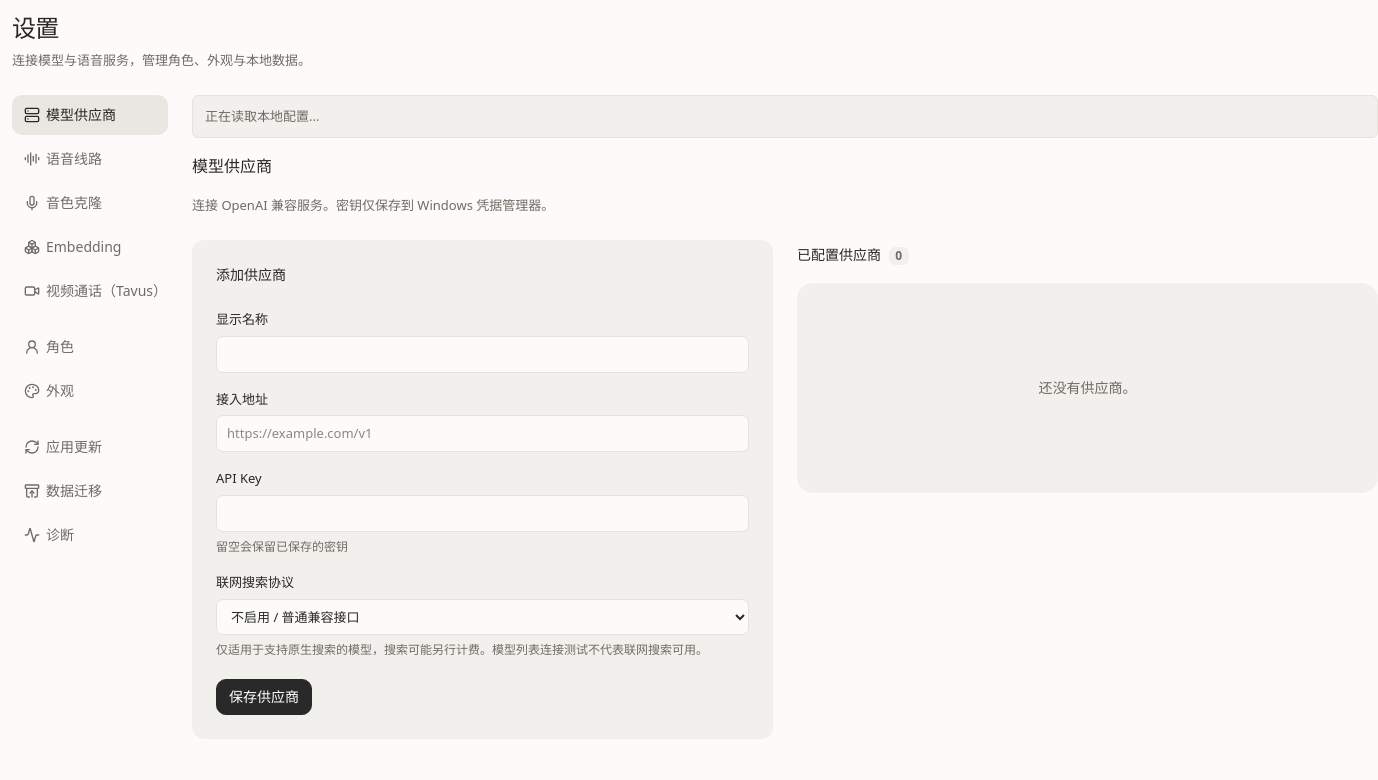
Test: SettingsPage service categories › records in-app audio and saves it as a voice reference
This screenshot has width=1378, height=780.
Step 1. Click the button "音色克隆" → (90, 203), box [12,183,168,223]
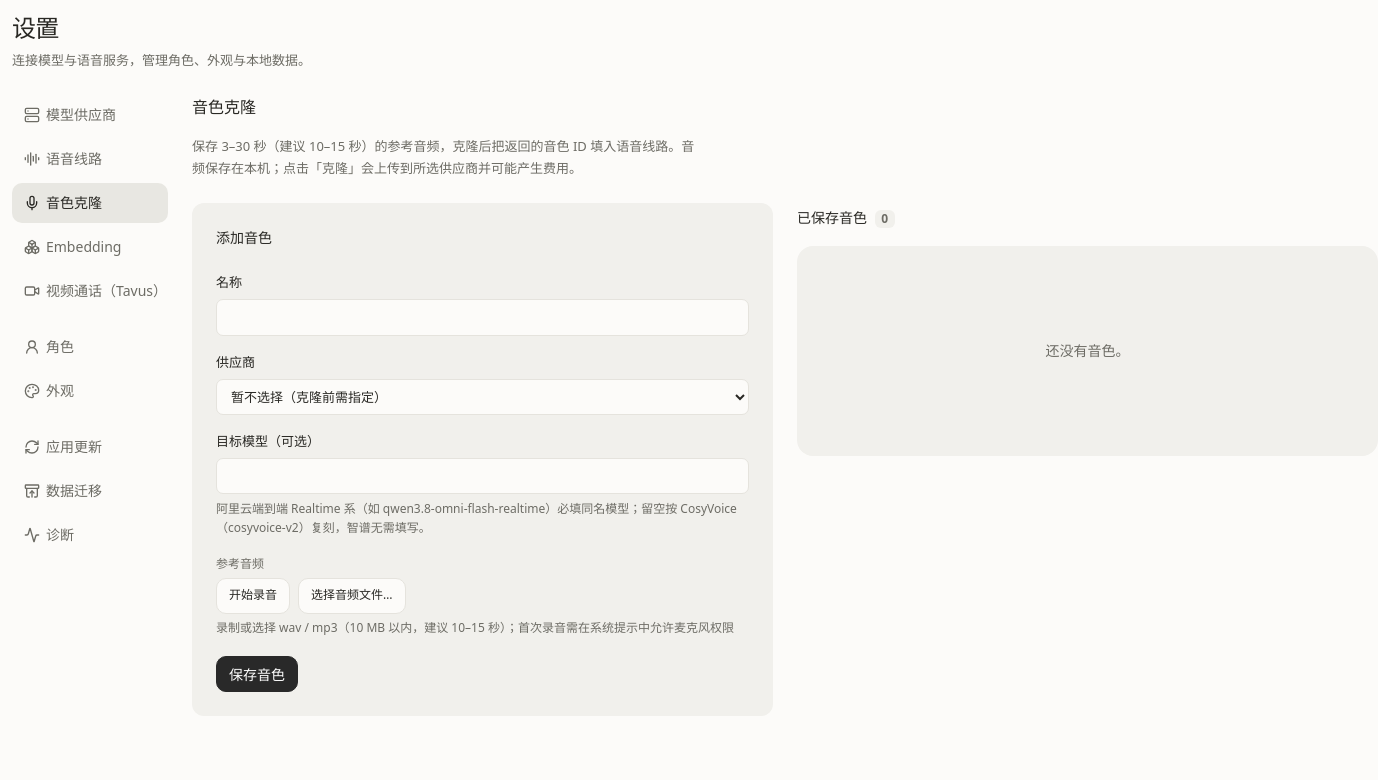
Step 2. Click the button "开始录音" → (253, 596), box [216,578,290,614]
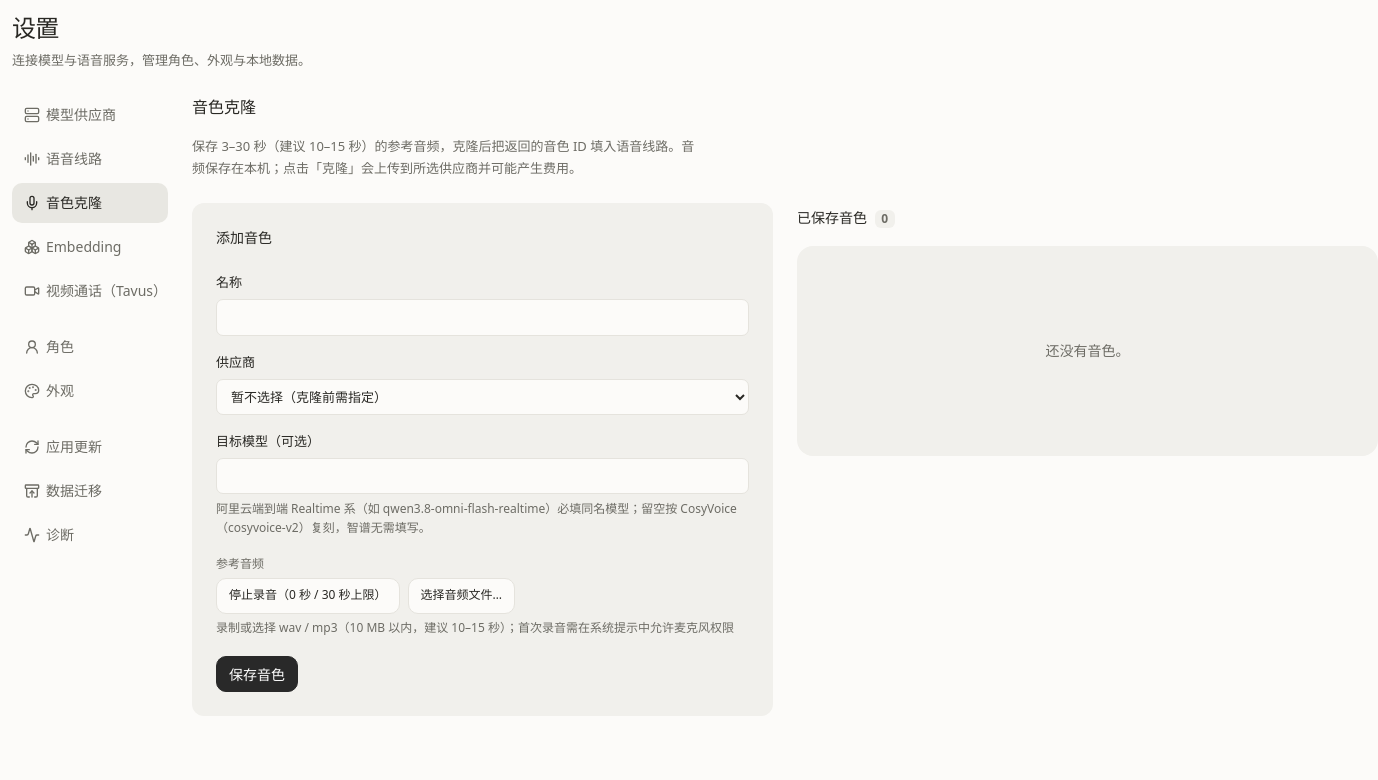
Step 3. Click the button "停止录音（0 秒 / 30 秒上限）" → (308, 596), box [216,578,400,614]
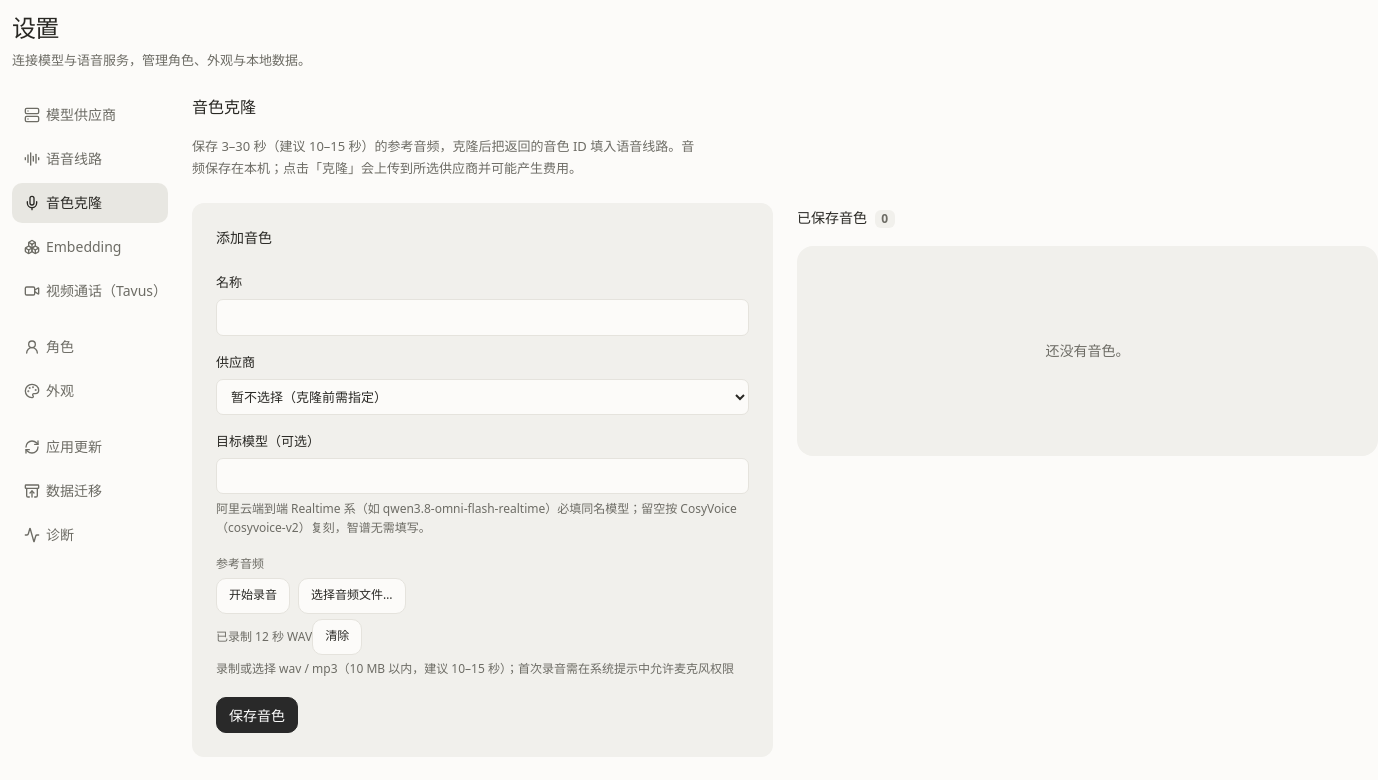
Expected: the text "已录制 12 秒 WAV 清除" is shown, [216,619,362,655]
Step 4. Type "录音音色" into the field labelled "名称" → (482, 318), box [216,299,749,336]
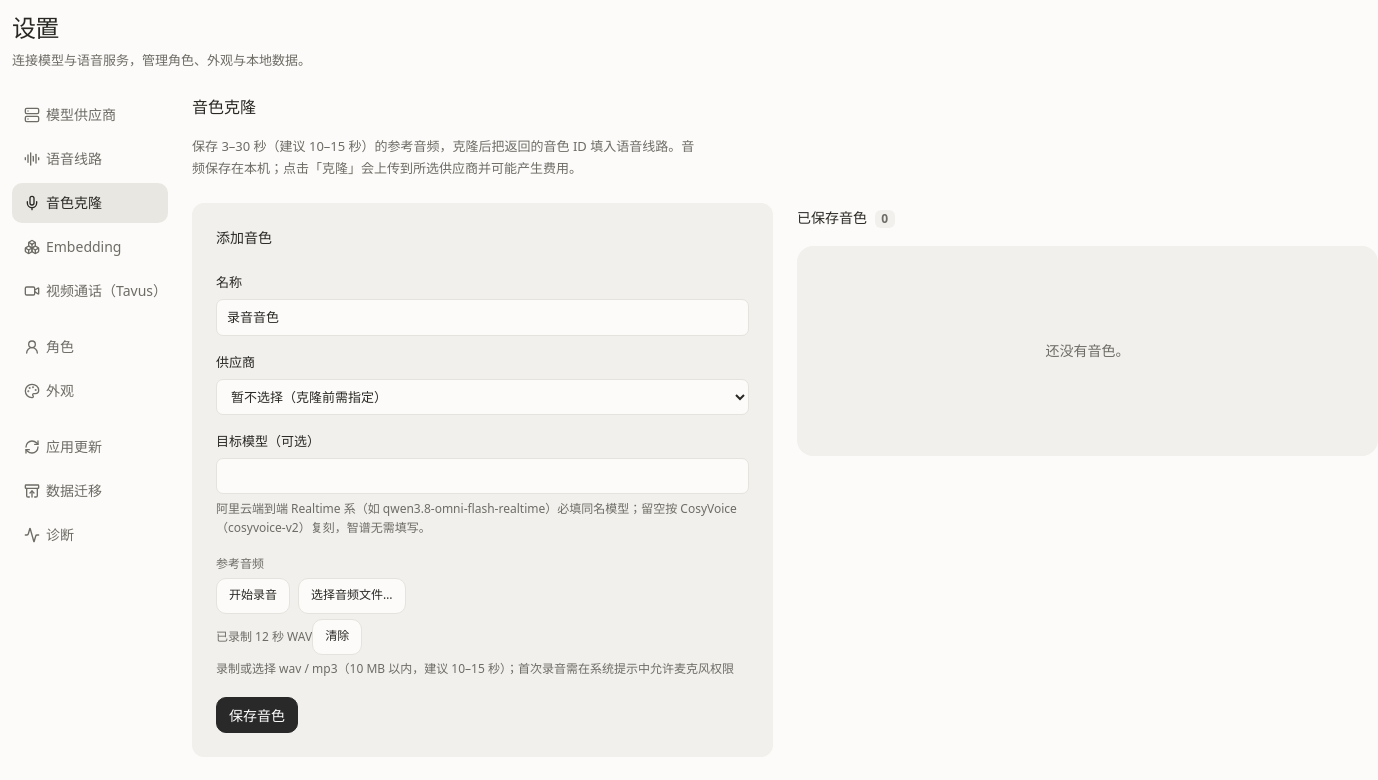
Step 5. Click the button "保存音色" → (257, 715), box [216,697,298,733]
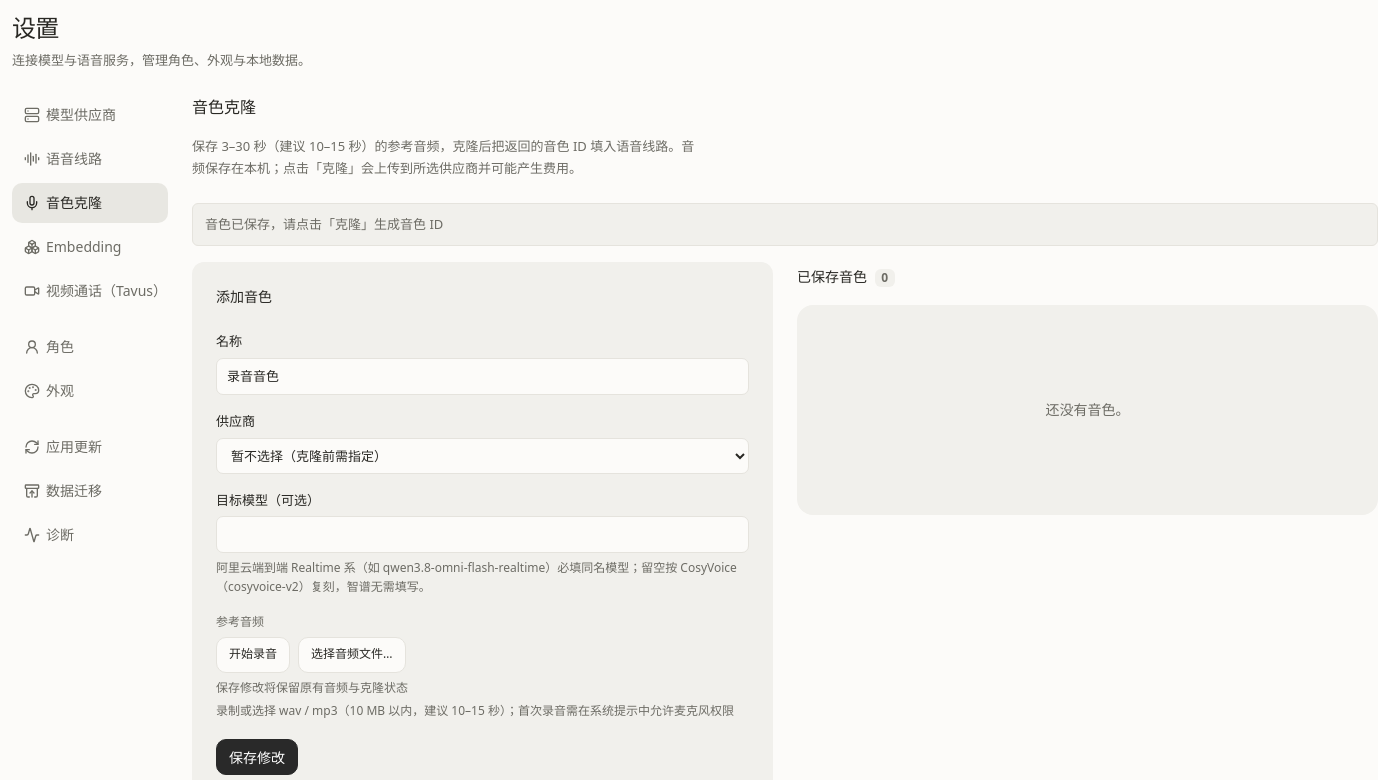
Expected: the text "音色已保存，请点击「克隆」生成音色 ID" is shown, [192,203,1377,246]
